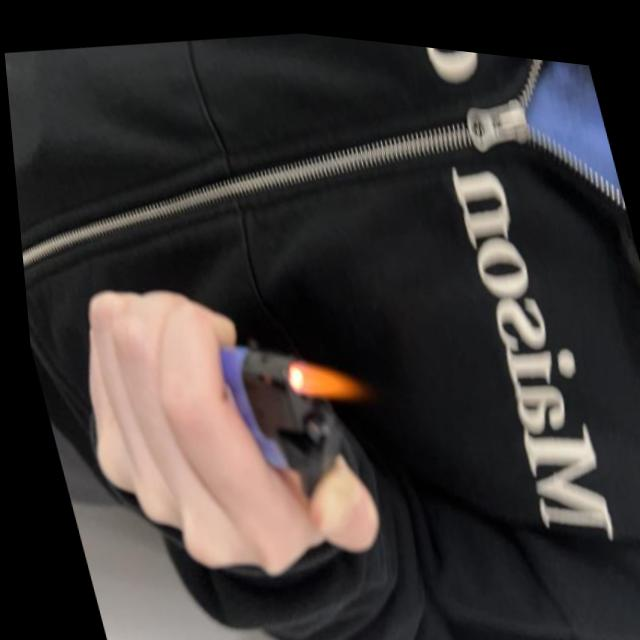Fire: (270, 335, 373, 406)
